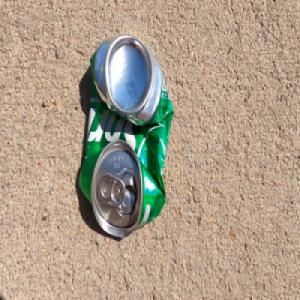SodaCan: (76, 33, 174, 241)
